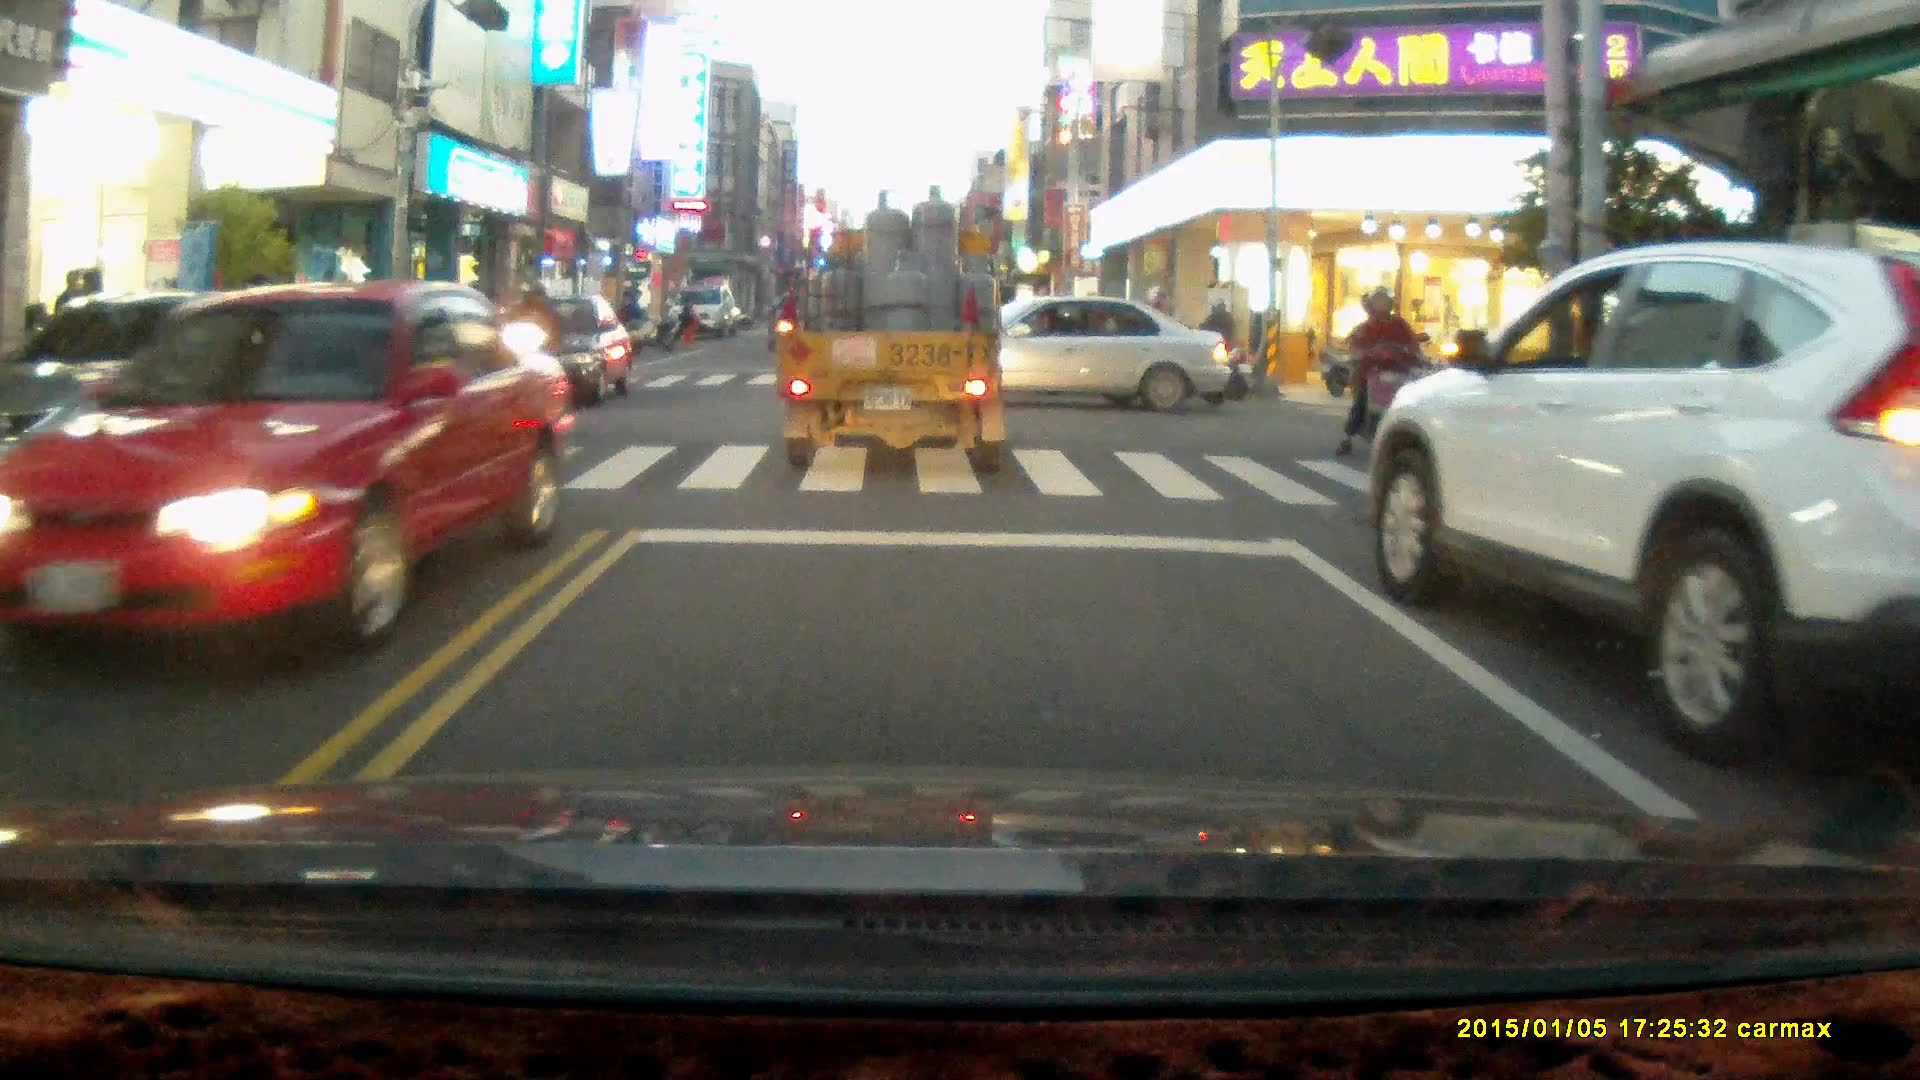pedestrian: (618, 286, 645, 349)
rider: (1332, 282, 1434, 474), (490, 280, 573, 459), (1160, 293, 1253, 398)
vehicle: (1360, 238, 1920, 781), (1, 276, 570, 665), (778, 190, 1018, 469), (896, 293, 1236, 414), (669, 284, 737, 336)
